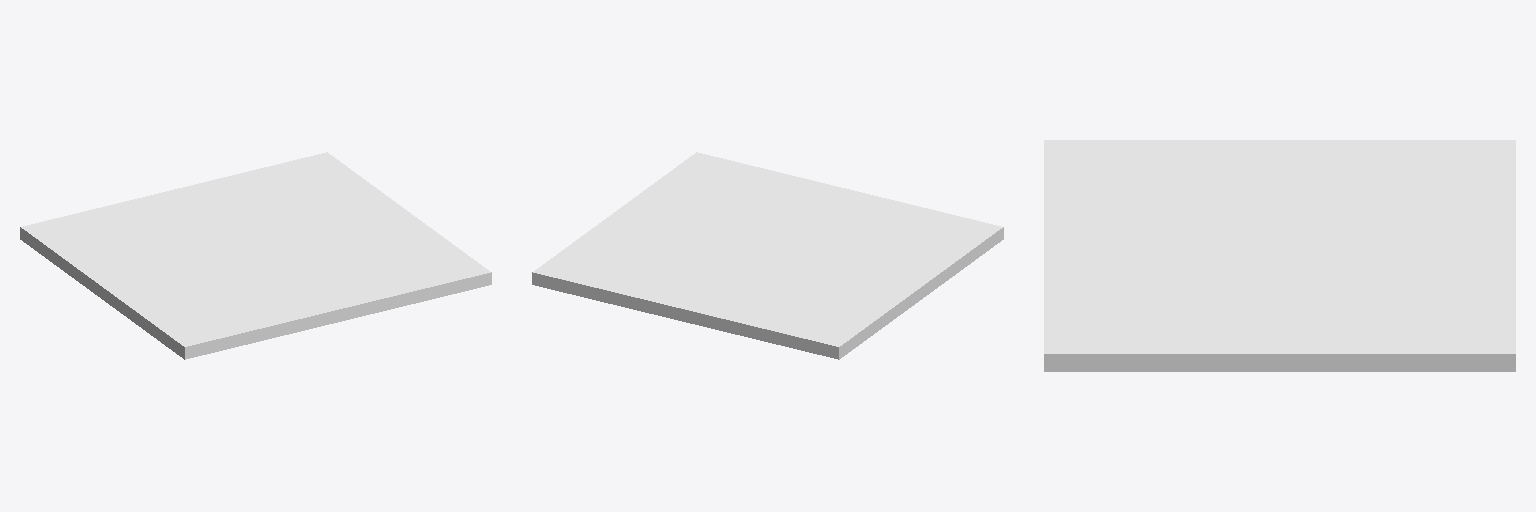
The robot description file, URDF, robot "chair":
<robot name="chair">
  <link name="base_link">
    <visual>
      <origin xyz="0 0 0" rpy="0 0 0" />
      <geometry>
        <mesh filename="package://hpp-rbprm-corba/meshes/ground.stl"/>
      </geometry>
      <material name="white">
        <color rgba="1 1 1 1"/>
      </material>
    </visual>
    <collision>
      <origin xyz="0 0 0" rpy="0 0 0" />
      <geometry>
        <mesh filename="package://hpp-rbprm-corba/meshes/ground.stl"/>
      </geometry>
    </collision>
  </link>
</robot>

--- Render facts (derived) ---
3 views of the same robot in one strip: view 1: azimuth 30°, elevation 25°; view 2: azimuth 150°, elevation 25°; view 3: azimuth 270°, elevation 25° (orthographic).
Robot: chair — 1 links, 0 joints (none); root link base_link; default pose: every joint at zero.
Links seen in each view (by area): view 1: base_link; view 2: base_link; view 3: base_link.
Link boxes in pixels (<box>): base_link: <box>20,152,491,359</box>; base_link: <box>532,152,1003,359</box>; base_link: <box>1044,140,1515,371</box>.
Size in the robot's own frame: 1.63 by 1.51 by 0.064 metres.
1 mesh visuals loaded from 1 distinct referenced files (1 binary STL).
